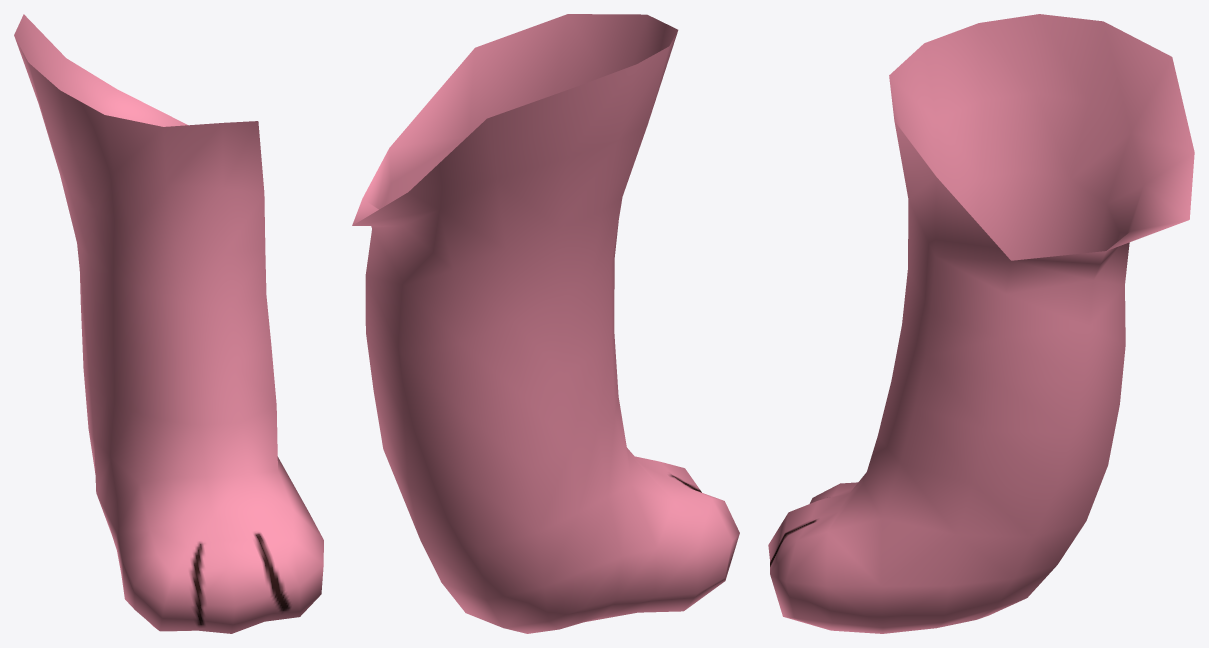
The model's file is Leon Pata DelIzq.obj.
3 renders of one model, left to right at view 1: azimuth 30°, elevation 25°; view 2: azimuth 150°, elevation 25°; view 3: azimuth 270°, elevation 25°, orthographic. The views are drawn at different scales.
Visible parts, largest first — view 1: Pata_delantera_izquierda; view 2: Pata_delantera_izquierda; view 3: Pata_delantera_izquierda.
Boxes of the visible parts, x1=… form: Pata_delantera_izquierda: x1=14, y1=14, x2=323, y2=633; Pata_delantera_izquierda: x1=352, y1=14, x2=739, y2=633; Pata_delantera_izquierda: x1=768, y1=14, x2=1194, y2=633.
Bounding box in the file's own units: 11.37 × 26.11 × 18.44.
